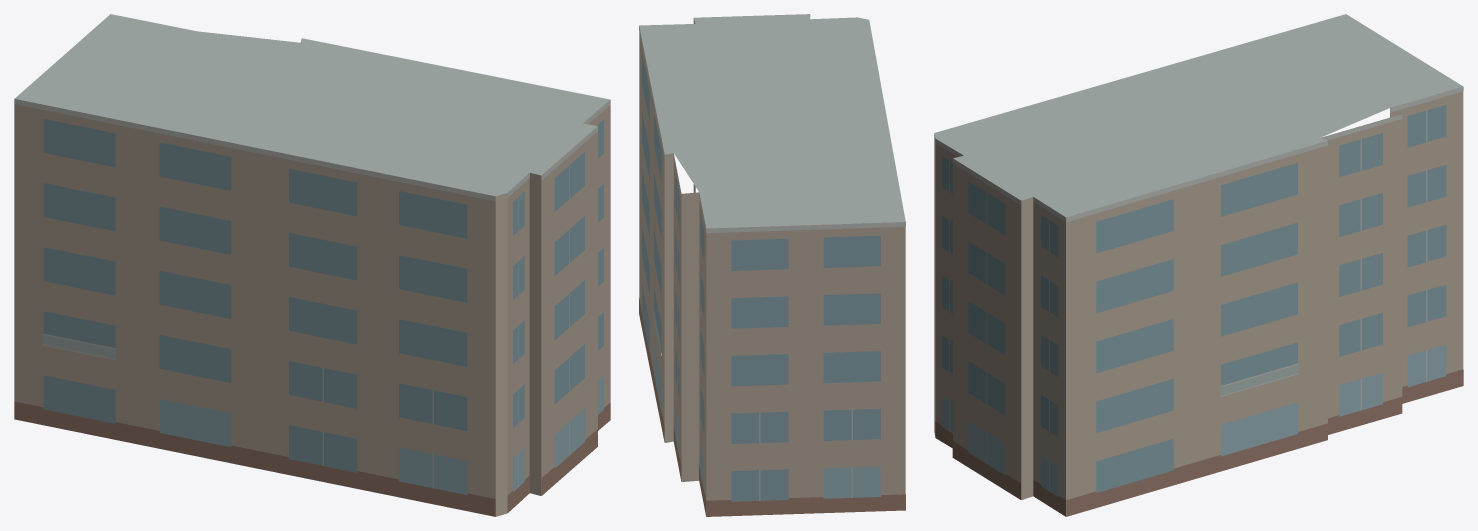
File: survey-upis-32681663.glb
3 renders of one model, left to right at view 1: azimuth 30°, elevation 25°; view 2: azimuth 150°, elevation 25°; view 3: azimuth 270°, elevation 25°, orthographic. The views are drawn at different scales.
Parts seen in each view (by area): view 1: survey-upis-32681663.tmp; view 2: survey-upis-32681663.tmp; view 3: survey-upis-32681663.tmp.
Part boxes in pixels (x1,y1,x2,y2): survey-upis-32681663.tmp: (14, 14, 610, 516); survey-upis-32681663.tmp: (639, 14, 905, 516); survey-upis-32681663.tmp: (934, 14, 1463, 516).
Bounding box in the file's own units: 21.86 × 15 × 24.02.
